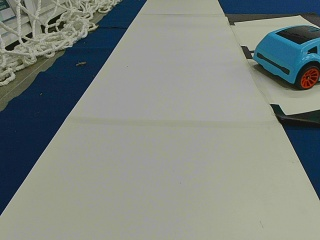car: (252, 22, 318, 89)
